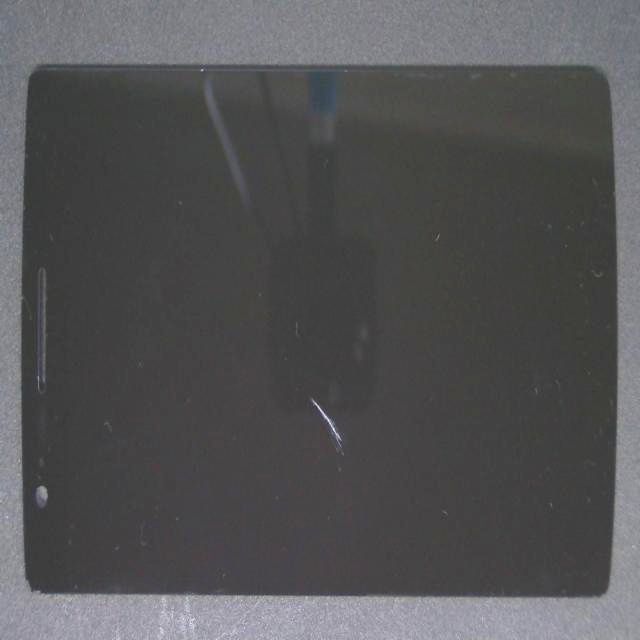scratch: (206, 252, 507, 621)
